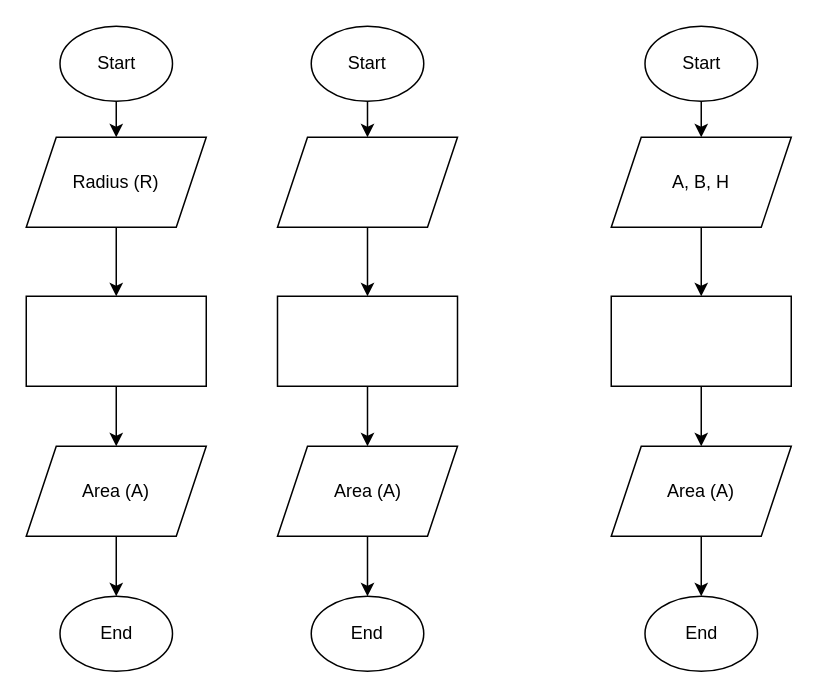
Image size: 818x698. Some labels were removed from this diagram. Each missing label, with the box of its shape:
A = 1/2(a + b) * h: (610, 295, 791, 386)
A = 3.14 * ( R * R ): (25, 295, 206, 386)
A = b * h: (276, 295, 458, 386)
B , H: (276, 136, 458, 227)
